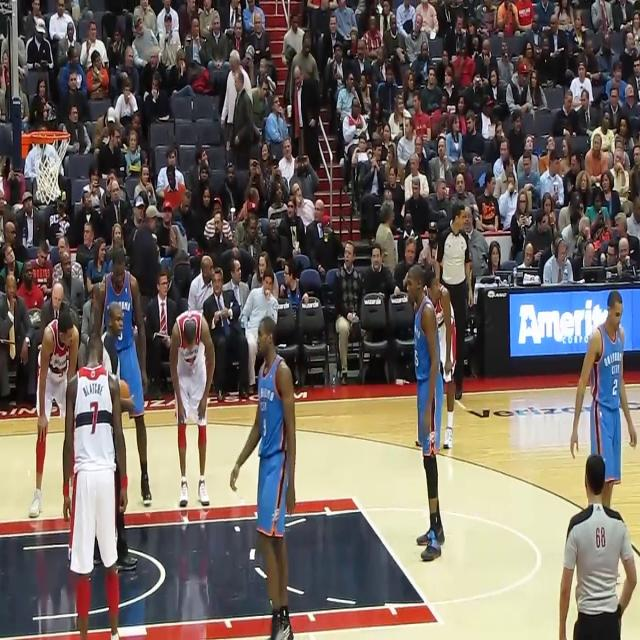ball: (118, 380, 130, 408)
